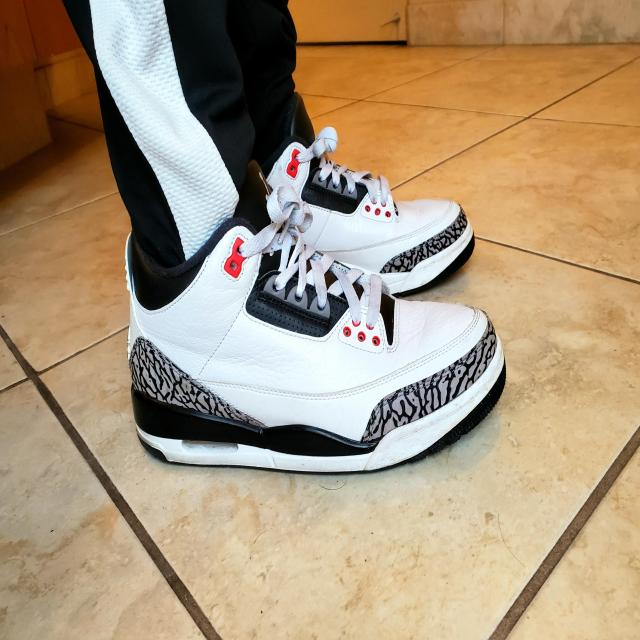shoe: (125, 225, 508, 474), (274, 142, 478, 294)
